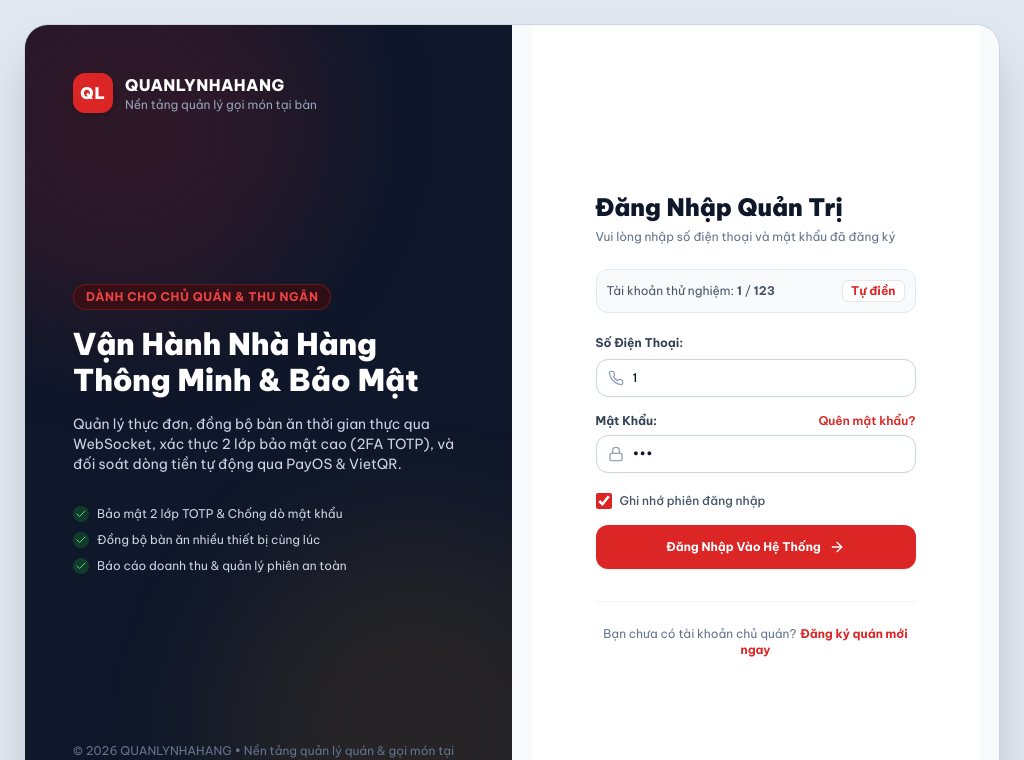
it: Story A1: Admin Login Page (mockup a01) › displays friendly Vietnamese error message when login fails (never Chinese)
The image size is (1024, 760).
Replace the text in the field with test id "login-phone-input" with "9999999999" at (756, 378), box [596,358,916,396]
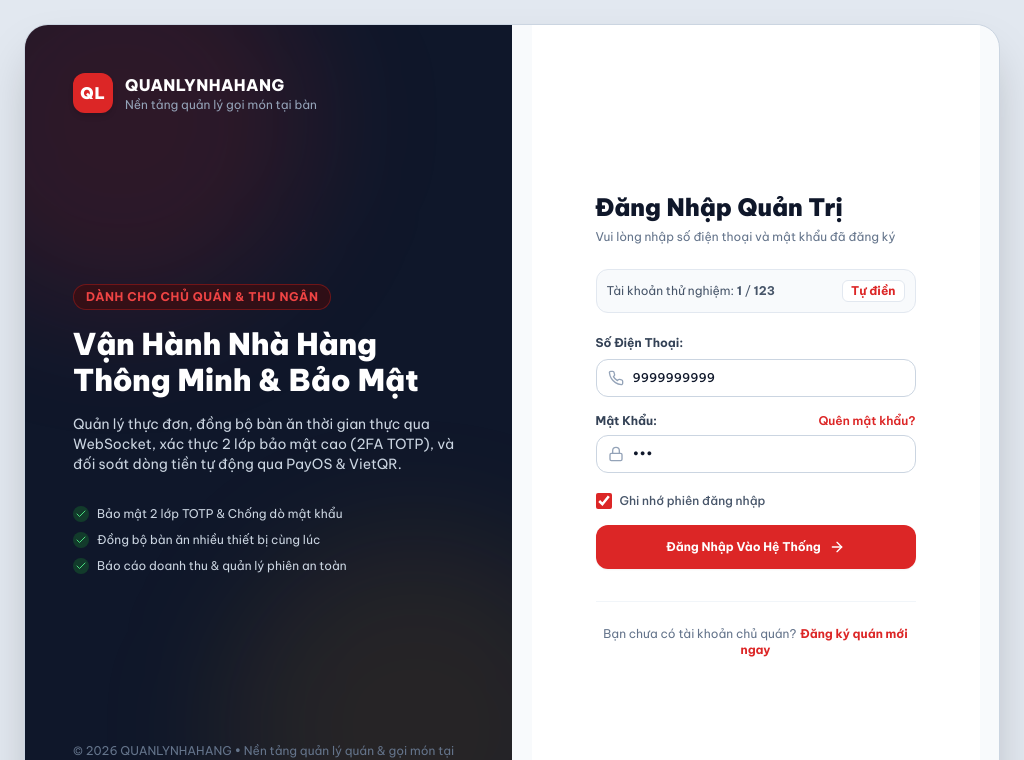
Type "wrongpass" into the password field with test id "login-password-input".
click(756, 454); type("wrongpass")  # box [596,434,916,472]
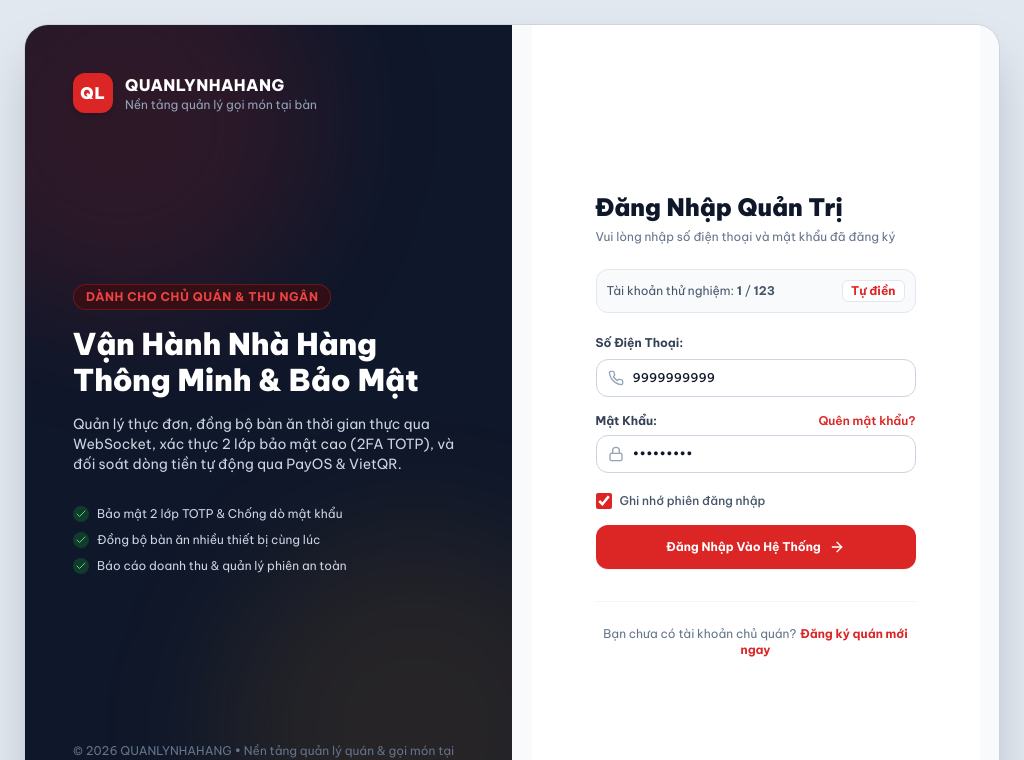
Click the button with test id "login-submit-btn".
click(756, 546)  # box [596,524,916,568]
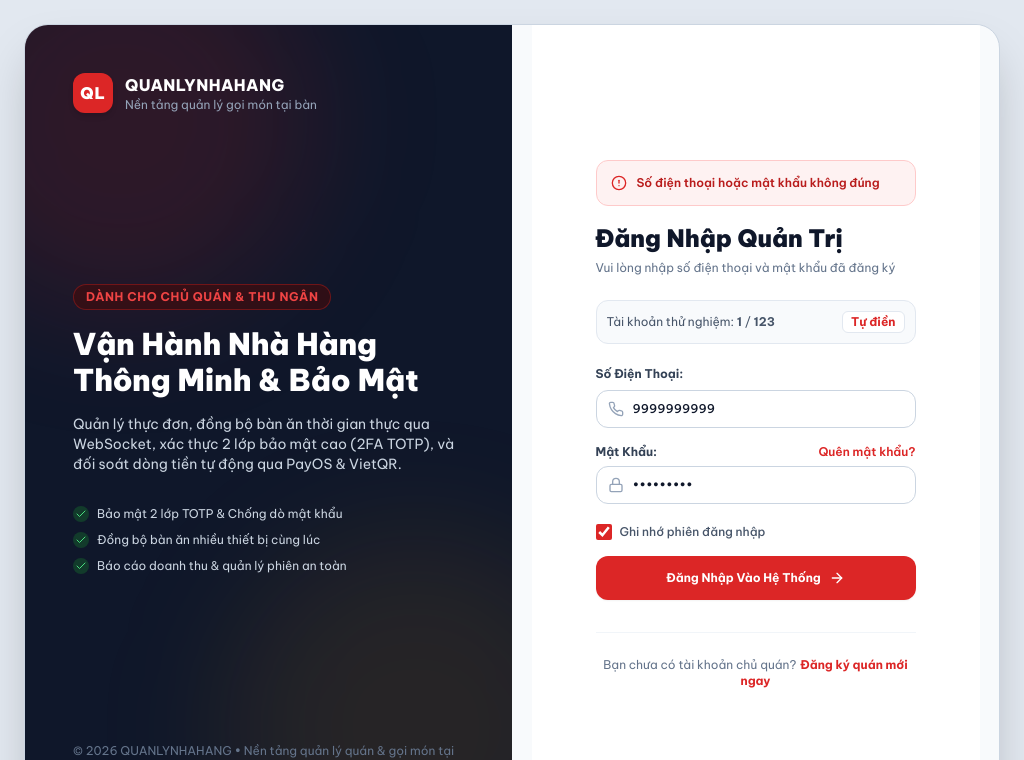
Now the element with test id "login-error-message" is shown, box [596,160,916,206]
Now the element with test id "login-error-message" reads "Số điện thoại hoặc mật khẩu không đúng", box [636,174,880,190]
